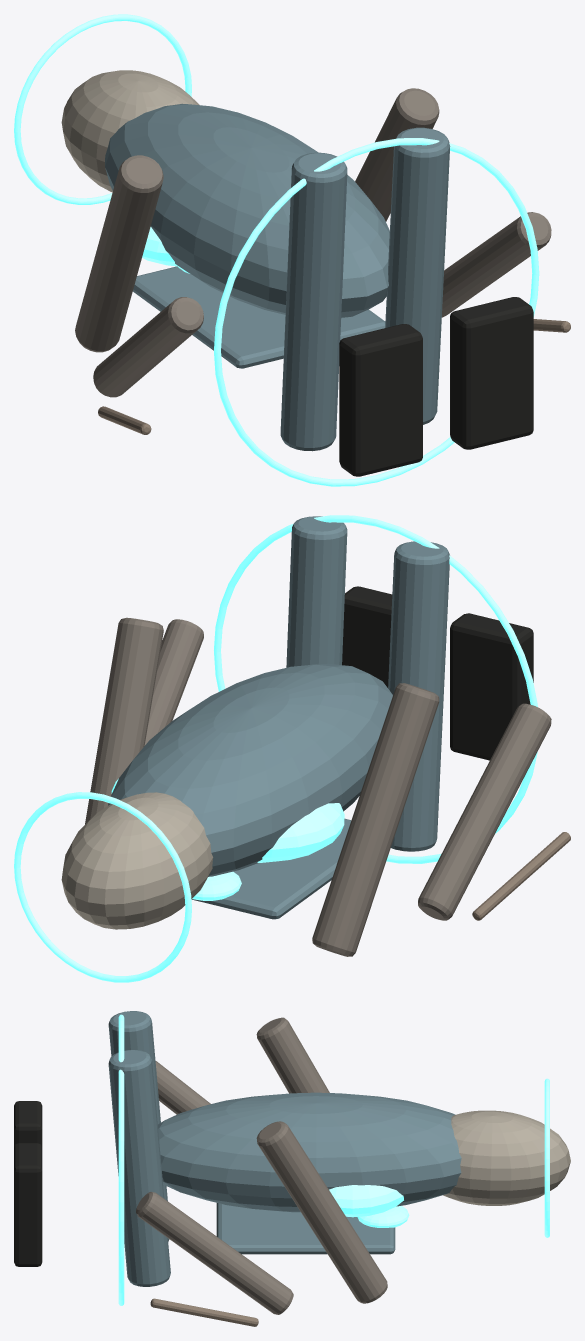
The model's file is dz_boss_hospital_surgeon.glb.
The picture shows the model from 3 angles, top to bottom: view 1: azimuth 30°, elevation 25°; view 2: azimuth 150°, elevation 25°; view 3: azimuth 270°, elevation 25°; orthographic projection. The views are drawn at different scales.
Parts seen in each view (by area): view 1: dz_torso_boss_hospital_surgeon, dz_limb_leg_l_hospital_surgeon, dz_limb_leg_r_hospital_surgeon, dz_limb_foot_r_hospital_surgeon, dz_limb_foot_l_hospital_surgeon, dz_limb_arm_l_hospital_surgeon, dz_variant_surgical_apron_hospital_surgeon, dz_head_boss_hospital_surgeon, dz_boss_attack_cue_hospital_surgeon, dz_limb_forearm_l_hospital_surgeon, dz_limb_forearm_r_hospital_surgeon, dz_limb_arm_r_hospital_surgeon (+3 smaller); view 2: dz_torso_boss_hospital_surgeon, dz_head_boss_hospital_surgeon, dz_limb_arm_l_hospital_surgeon, dz_limb_leg_l_hospital_surgeon, dz_limb_foot_l_hospital_surgeon, dz_limb_forearm_l_hospital_surgeon, dz_limb_leg_r_hospital_surgeon, dz_limb_arm_r_hospital_surgeon, dz_variant_surgical_apron_hospital_surgeon, dz_boss_attack_cue_hospital_surgeon, dz_limb_foot_r_hospital_surgeon, dz_boss_halo_surgical_lamp_hospital_surgeon (+4 smaller); view 3: dz_torso_boss_hospital_surgeon, dz_head_boss_hospital_surgeon, dz_limb_leg_r_hospital_surgeon, dz_limb_arm_r_hospital_surgeon, dz_limb_forearm_r_hospital_surgeon, dz_variant_surgical_apron_hospital_surgeon, dz_limb_foot_r_hospital_surgeon, dz_limb_arm_l_hospital_surgeon, dz_boss_attack_cue_hospital_surgeon, dz_limb_leg_l_hospital_surgeon, dz_chest_boss_hospital_surgeon, dz_limb_forearm_l_hospital_surgeon (+4 smaller).
Part boxes in pixels (x1=…): dz_torso_boss_hospital_surgeon: x1=105, y1=103, x2=389, y2=317; dz_limb_leg_l_hospital_surgeon: x1=280, y1=152, x2=347, y2=451; dz_limb_leg_r_hospital_surgeon: x1=385, y1=127, x2=450, y2=424; dz_limb_foot_r_hospital_surgeon: x1=450, y1=297, x2=533, y2=449; dz_limb_foot_l_hospital_surgeon: x1=339, y1=324, x2=422, y2=476; dz_limb_arm_l_hospital_surgeon: x1=75, y1=155, x2=163, y2=352; dz_variant_surgical_apron_hospital_surgeon: x1=132, y1=266, x2=385, y2=368; dz_head_boss_hospital_surgeon: x1=61, y1=70, x2=199, y2=192; dz_boss_attack_cue_hospital_surgeon: x1=214, y1=138, x2=539, y2=486; dz_limb_forearm_l_hospital_surgeon: x1=93, y1=297, x2=203, y2=397; dz_limb_forearm_r_hospital_surgeon: x1=442, y1=212, x2=551, y2=317; dz_limb_arm_r_hospital_surgeon: x1=355, y1=88, x2=439, y2=221; dz_torso_boss_hospital_surgeon: x1=108, y1=663, x2=392, y2=876; dz_head_boss_hospital_surgeon: x1=61, y1=792, x2=213, y2=929; dz_limb_arm_l_hospital_surgeon: x1=312, y1=683, x2=439, y2=956; dz_limb_leg_l_hospital_surgeon: x1=388, y1=541, x2=449, y2=851; dz_limb_foot_l_hospital_surgeon: x1=450, y1=613, x2=533, y2=760; dz_limb_forearm_l_hospital_surgeon: x1=418, y1=703, x2=551, y2=920; dz_limb_leg_r_hospital_surgeon: x1=286, y1=516, x2=347, y2=667; dz_limb_arm_r_hospital_surgeon: x1=85, y1=617, x2=163, y2=824; dz_variant_surgical_apron_hospital_surgeon: x1=191, y1=818, x2=351, y2=919; dz_boss_attack_cue_hospital_surgeon: x1=214, y1=515, x2=537, y2=863; dz_limb_foot_r_hospital_surgeon: x1=342, y1=586, x2=392, y2=687; dz_boss_halo_surgical_lamp_hospital_surgeon: x1=14, y1=792, x2=191, y2=982; dz_torso_boss_hospital_surgeon: x1=158, y1=1092, x2=461, y2=1212; dz_head_boss_hospital_surgeon: x1=443, y1=1110, x2=570, y2=1205; dz_limb_leg_r_hospital_surgeon: x1=108, y1=1050, x2=170, y2=1286; dz_limb_arm_r_hospital_surgeon: x1=256, y1=1121, x2=387, y2=1303; dz_limb_forearm_r_hospital_surgeon: x1=136, y1=1192, x2=293, y2=1314; dz_variant_surgical_apron_hospital_surgeon: x1=216, y1=1203, x2=395, y2=1254; dz_limb_foot_r_hospital_surgeon: x1=14, y1=1143, x2=42, y2=1266; dz_limb_arm_l_hospital_surgeon: x1=256, y1=1017, x2=329, y2=1093; dz_boss_attack_cue_hospital_surgeon: x1=118, y1=1014, x2=124, y2=1305; dz_limb_leg_l_hospital_surgeon: x1=108, y1=1011, x2=169, y2=1241; dz_chest_boss_hospital_surgeon: x1=329, y1=1185, x2=403, y2=1217; dz_limb_forearm_l_hospital_surgeon: x1=155, y1=1061, x2=210, y2=1114.
Bounding box in the file's own units: 1.91 × 1.44 × 2.75.
